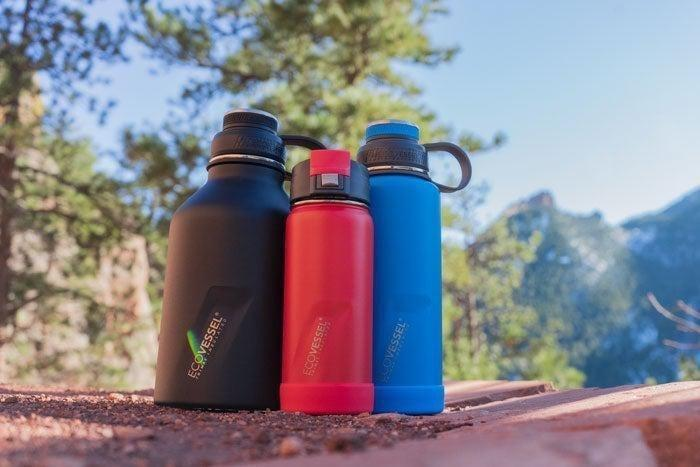gym bottle: (152, 106, 295, 410), (276, 148, 378, 419), (358, 121, 448, 417)
